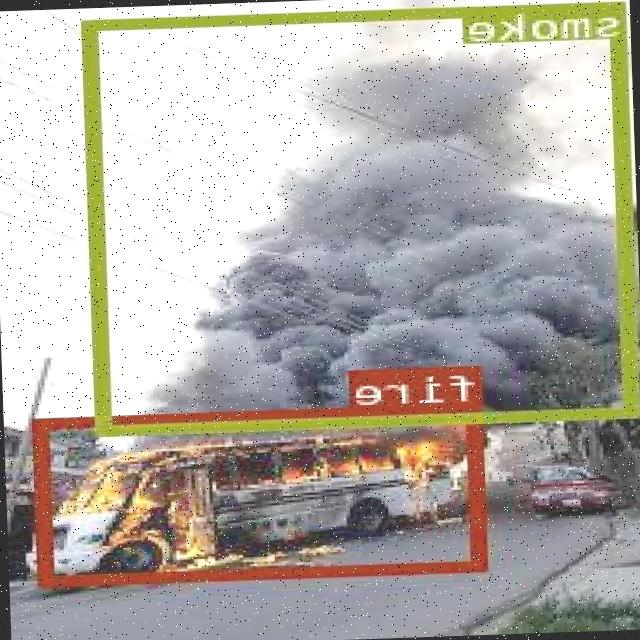fire: (38, 401, 489, 584)
smoke: (84, 0, 640, 433)
